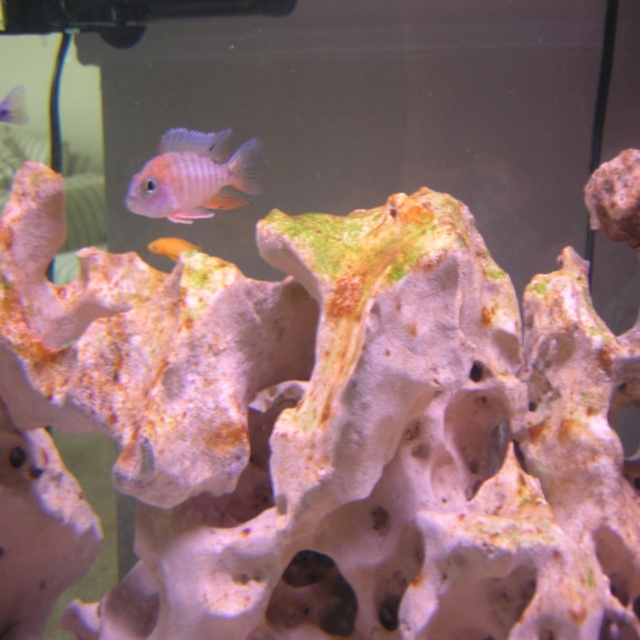Fish: (125, 128, 268, 224), (0, 85, 32, 126)
